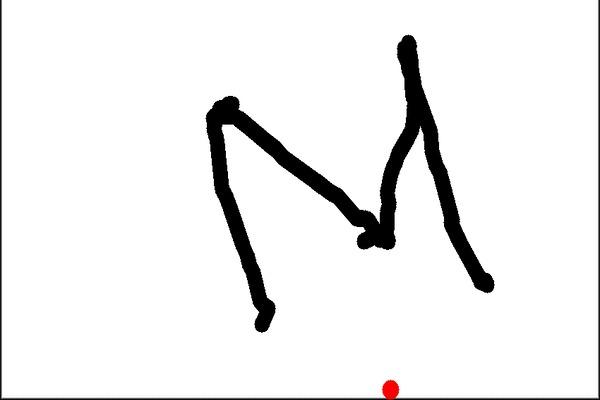M: (201, 26, 501, 344)
